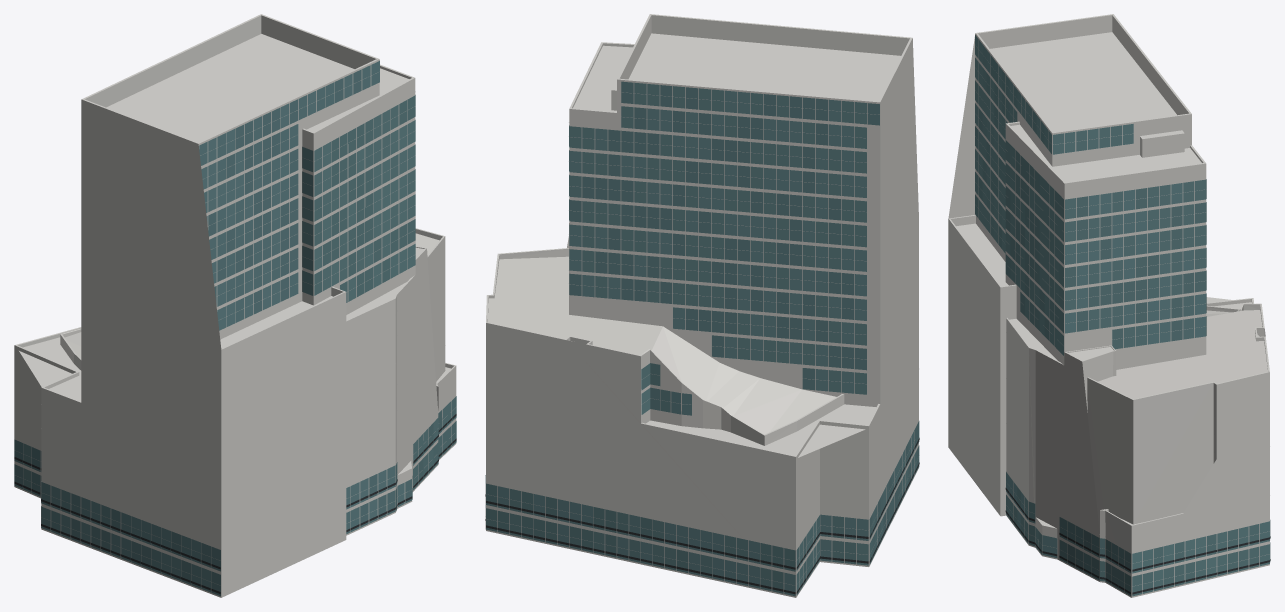
The model's file is parco.glb.
3 renders of one model, left to right at view 1: azimuth 30°, elevation 25°; view 2: azimuth 150°, elevation 25°; view 3: azimuth 270°, elevation 25°, orthographic. The views are drawn at different scales.
Visible parts, largest first — view 1: parco_wall, parco_roof, parco_glass0, parco_glass2, parco_glass1, parco_frame, parco_sign_housing; view 2: parco_wall, parco_roof, parco_glass0, parco_glass1, parco_glass2, parco_frame, parco_sign_housing, parco_spandrel; view 3: parco_wall, parco_roof, parco_glass2, parco_glass1, parco_glass0, parco_frame, parco_sign_housing, parco_spandrel.
Part boxes in pixels (x1,y1,x2,y2): parco_wall: (14,15,456,597); parco_roof: (15,14,455,474); parco_glass0: (14,69,456,596); parco_glass2: (23,73,451,592); parco_glass1: (14,61,456,588); parco_frame: (14,60,455,592); parco_sign_housing: (14,414,456,593); parco_wall: (486,15,918,597); parco_roof: (486,14,912,457); parco_glass0: (485,81,919,593); parco_glass1: (510,82,913,595); parco_glass2: (498,90,916,596); parco_frame: (485,82,914,593); parco_sign_housing: (485,438,919,594); parco_spandrel: (487,123,918,596); parco_wall: (948,15,1269,597); parco_roof: (949,14,1269,528); parco_glass2: (975,40,1216,578); parco_glass1: (975,35,1269,592); parco_glass0: (975,55,1270,596); parco_frame: (975,40,1269,596); parco_sign_housing: (1005,488,1270,594); parco_spandrel: (1005,136,1269,596).
Size of the model in its own units: 95.32 by 101 by 72.07.
